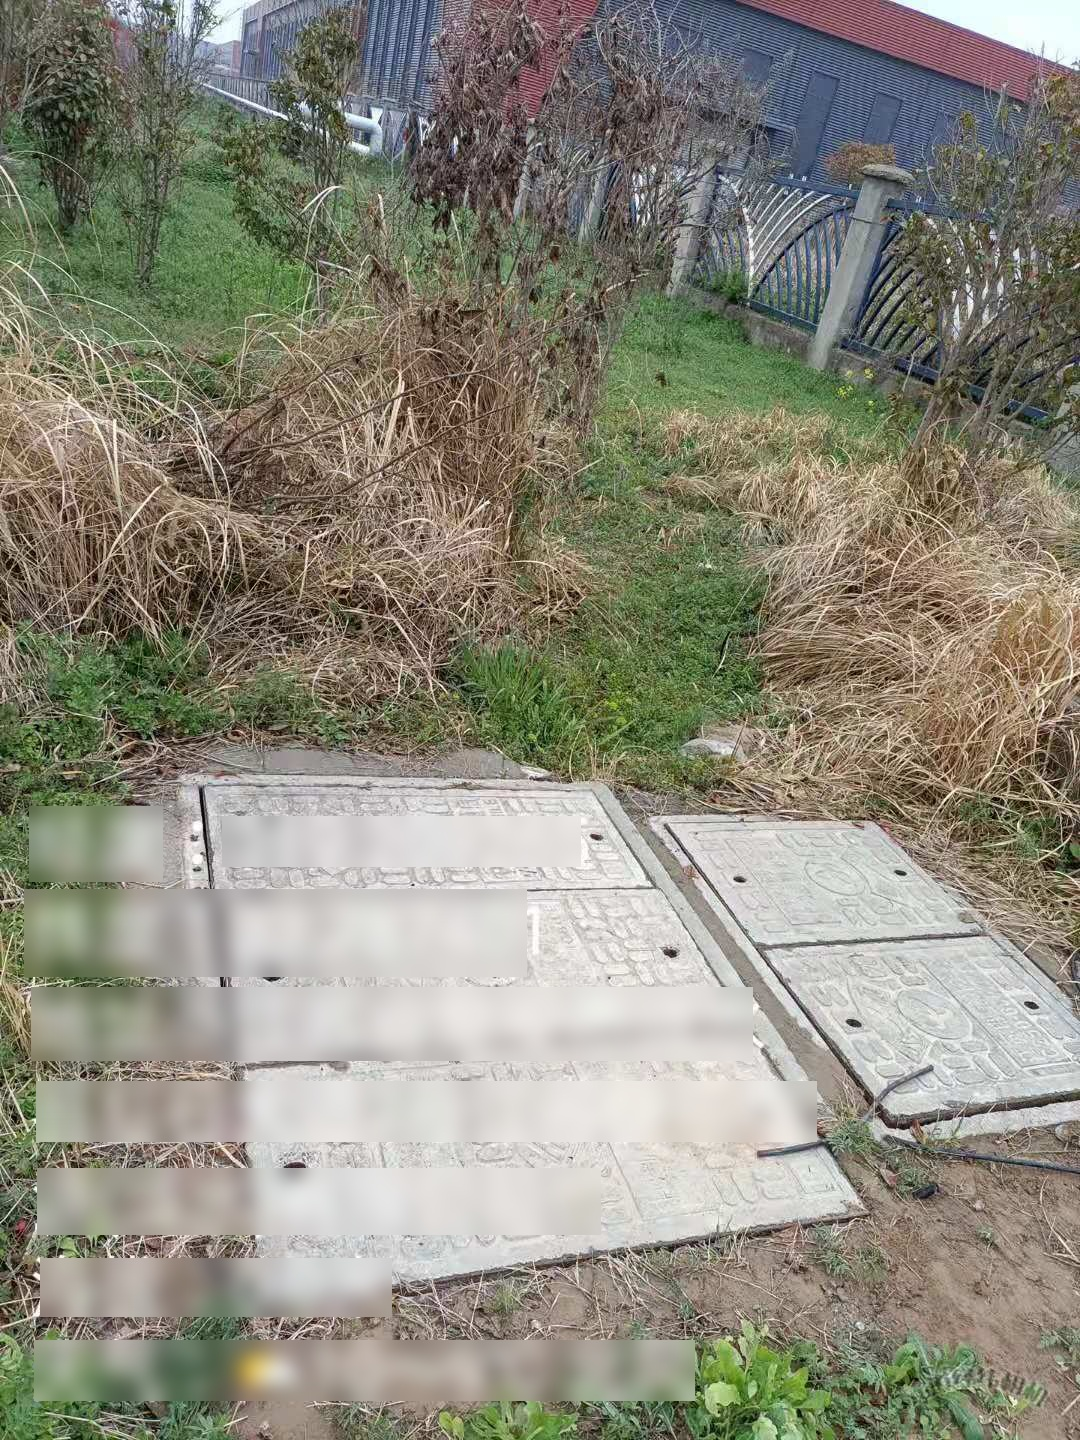good: (174, 771, 874, 1302), (653, 812, 1080, 1144)
